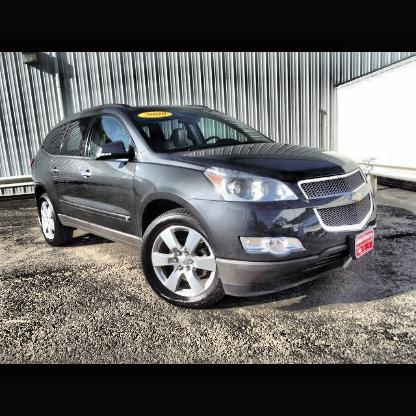Chevrolet Traverse SUV 2012: (29, 101, 382, 312)
